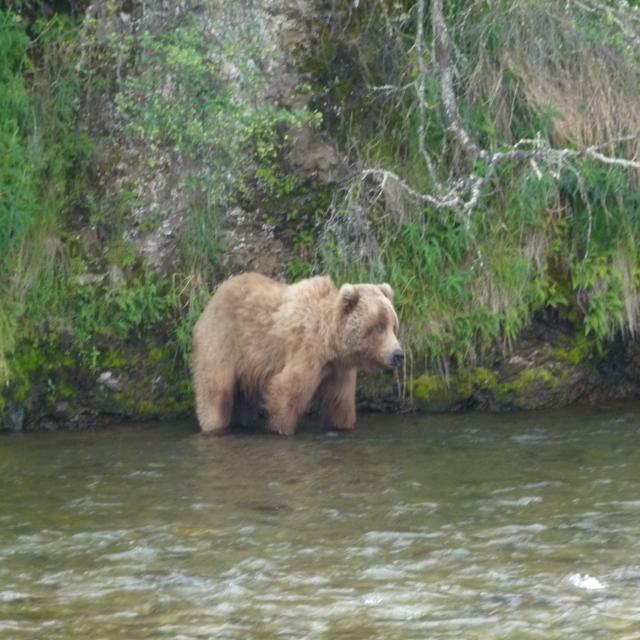bear face: (197, 272, 410, 429)
